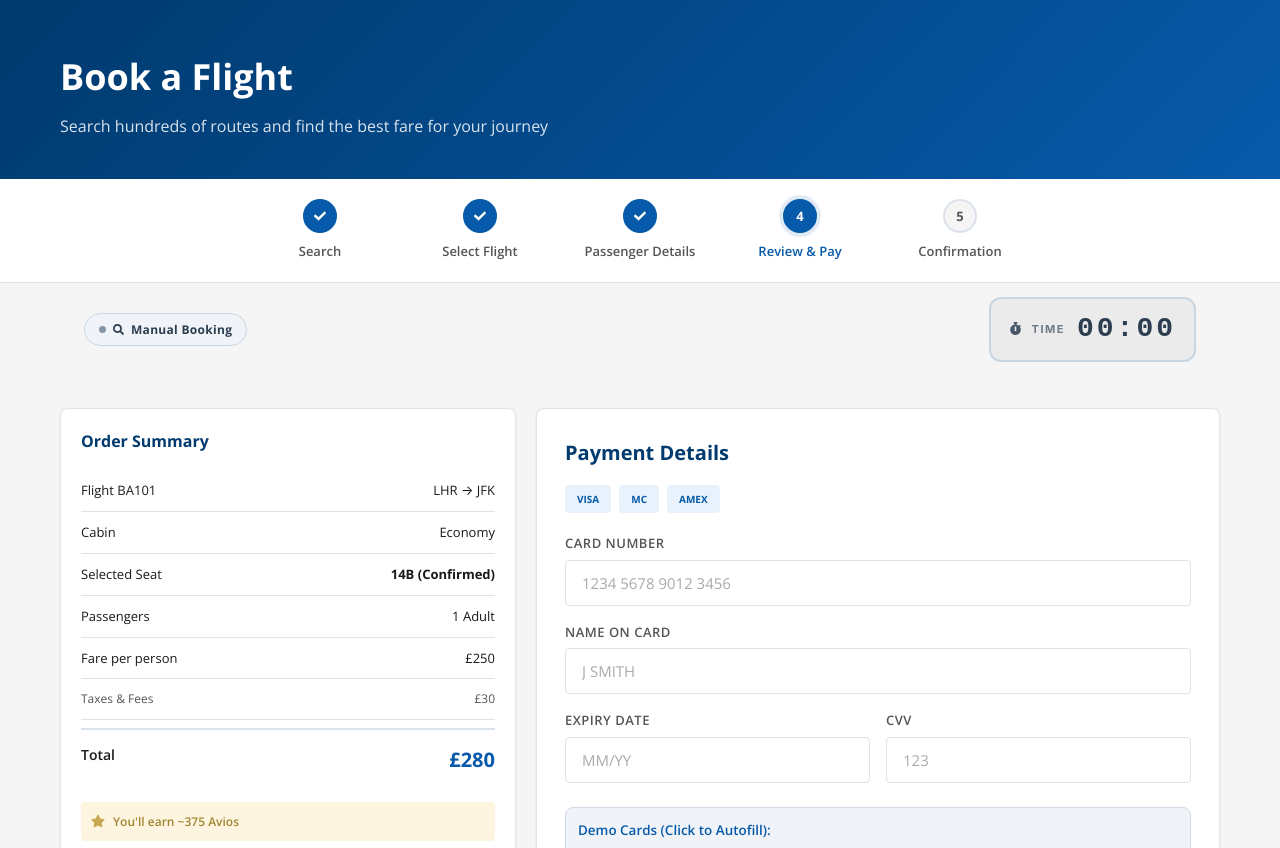
Test: BookFlight Payment Form Keyboard Validation - Component Tests › TC-PAY-003: Rejects 3-digit CVV for American Express card (must be 4 digits / CID)
This screenshot has width=1280, height=848.
# Amex 15-digit card starting with 37
In the field labelled "Card Number": (878, 583) [565,560,1191,606], type "3782 822463 10005"
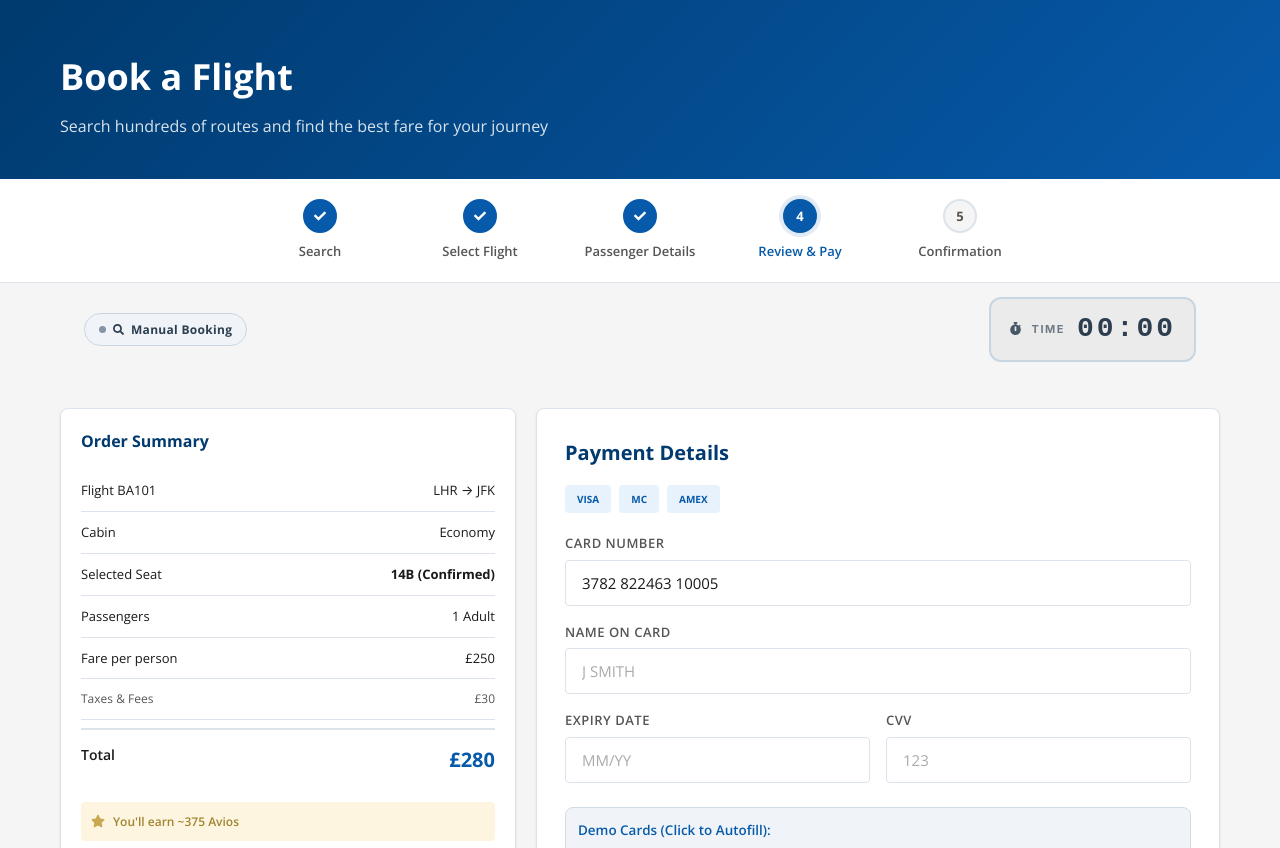
In the password field labelled "CVV": (1038, 760) [886,737,1191,783], type "123"
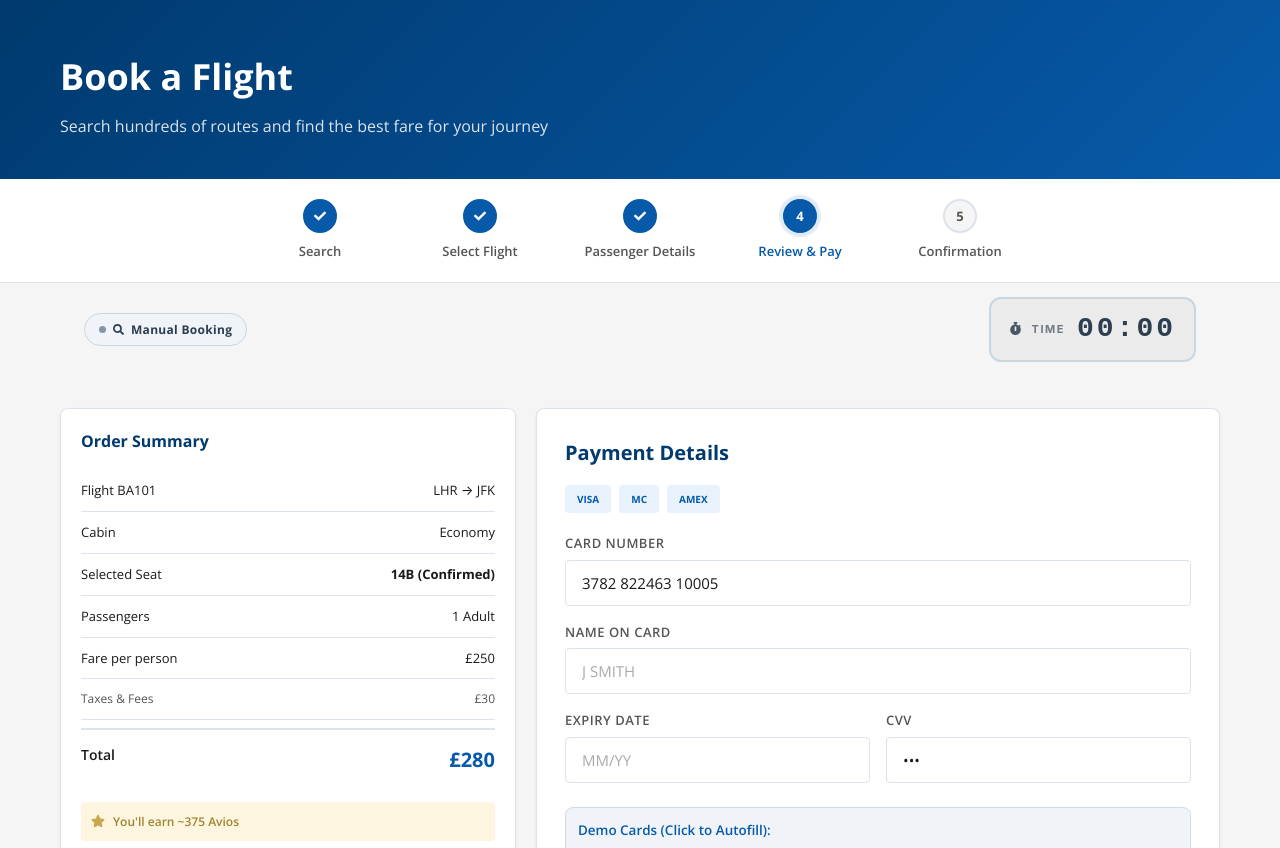
Leave the password field labelled "CVV", box [886,737,1191,783]
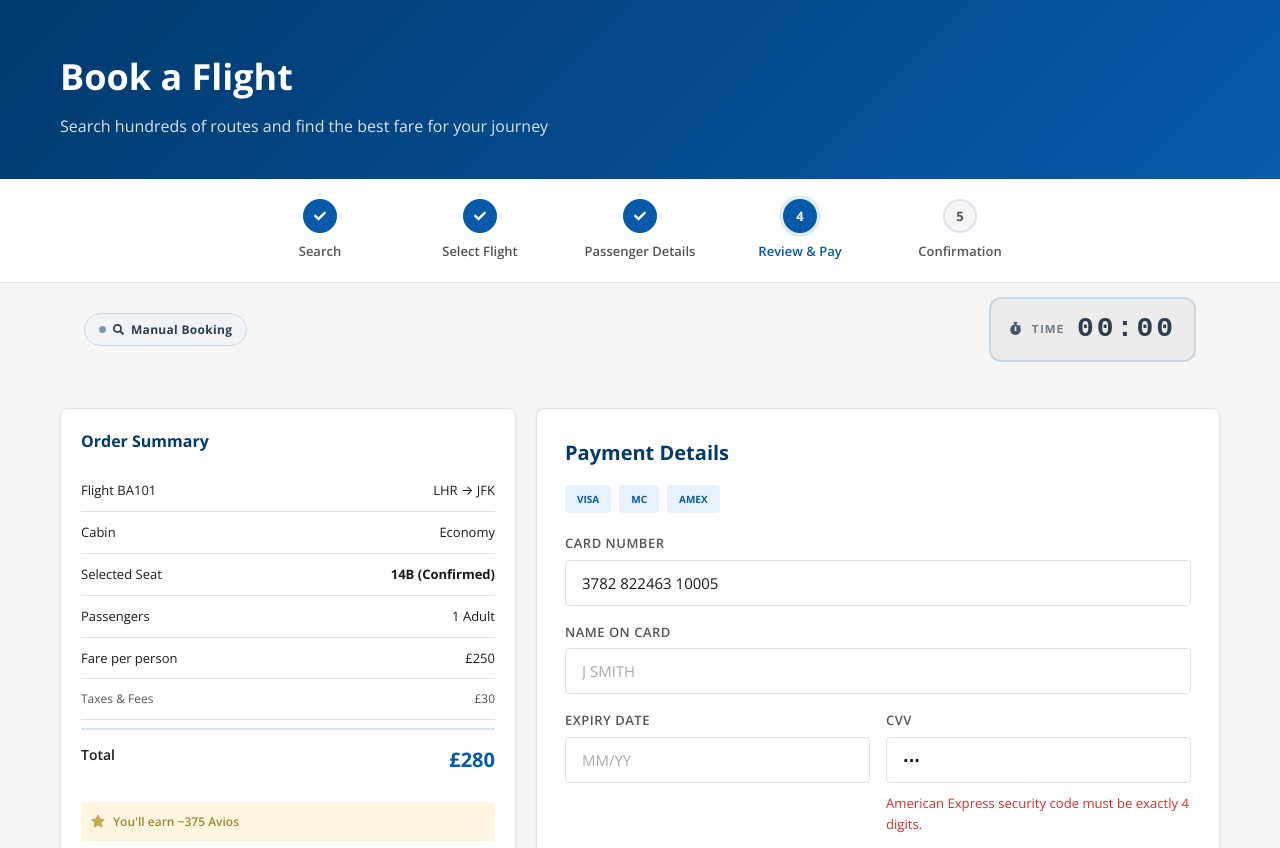
Check: the text "American Express security code must be exactly 4 digits." is shown, box [886,793,1191,835]
